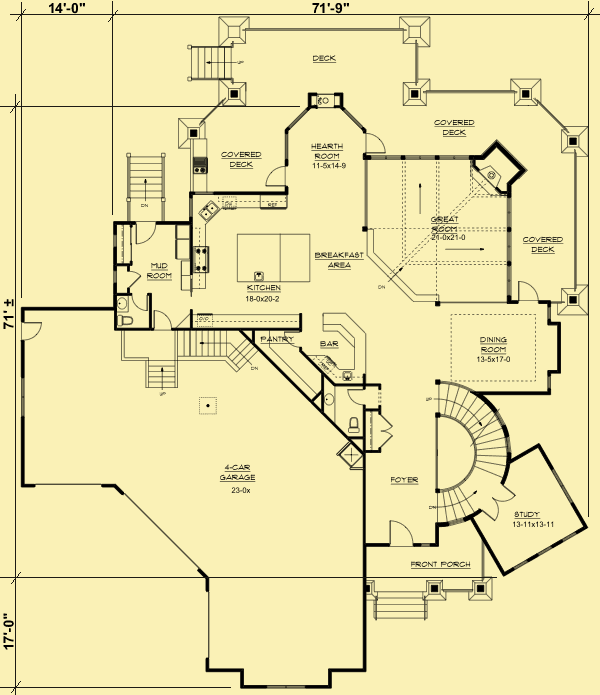door: (373, 412, 396, 452), (387, 519, 417, 548), (18, 318, 44, 345), (132, 221, 155, 245), (131, 288, 154, 312), (150, 306, 173, 330), (265, 164, 288, 188), (363, 129, 386, 153), (515, 278, 538, 302), (344, 382, 367, 406)
large_sink: (342, 416, 362, 436), (115, 314, 136, 330)
stairs: (437, 380, 509, 526), (144, 331, 263, 392), (121, 152, 169, 226), (183, 42, 234, 85), (373, 591, 427, 626)
twin_sink: (197, 199, 220, 223)
